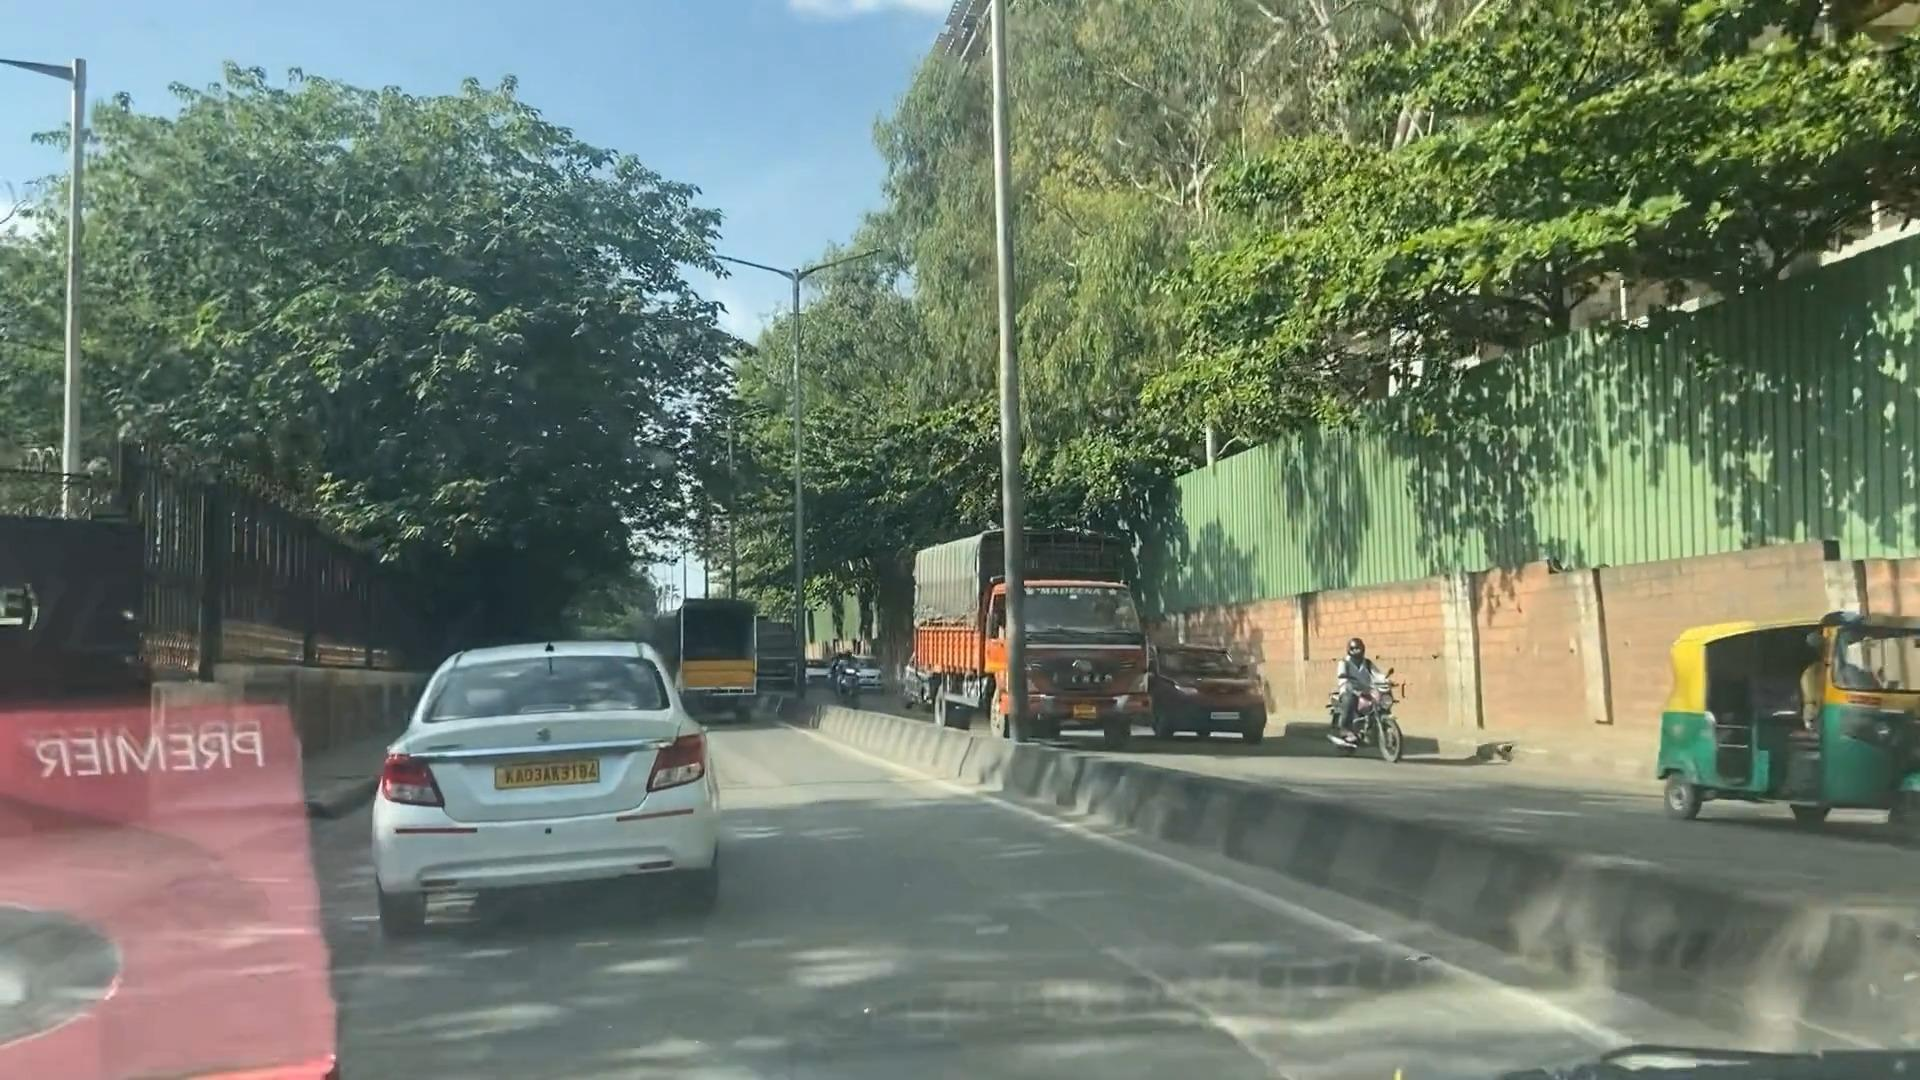HMV: (893, 506, 1151, 746)
